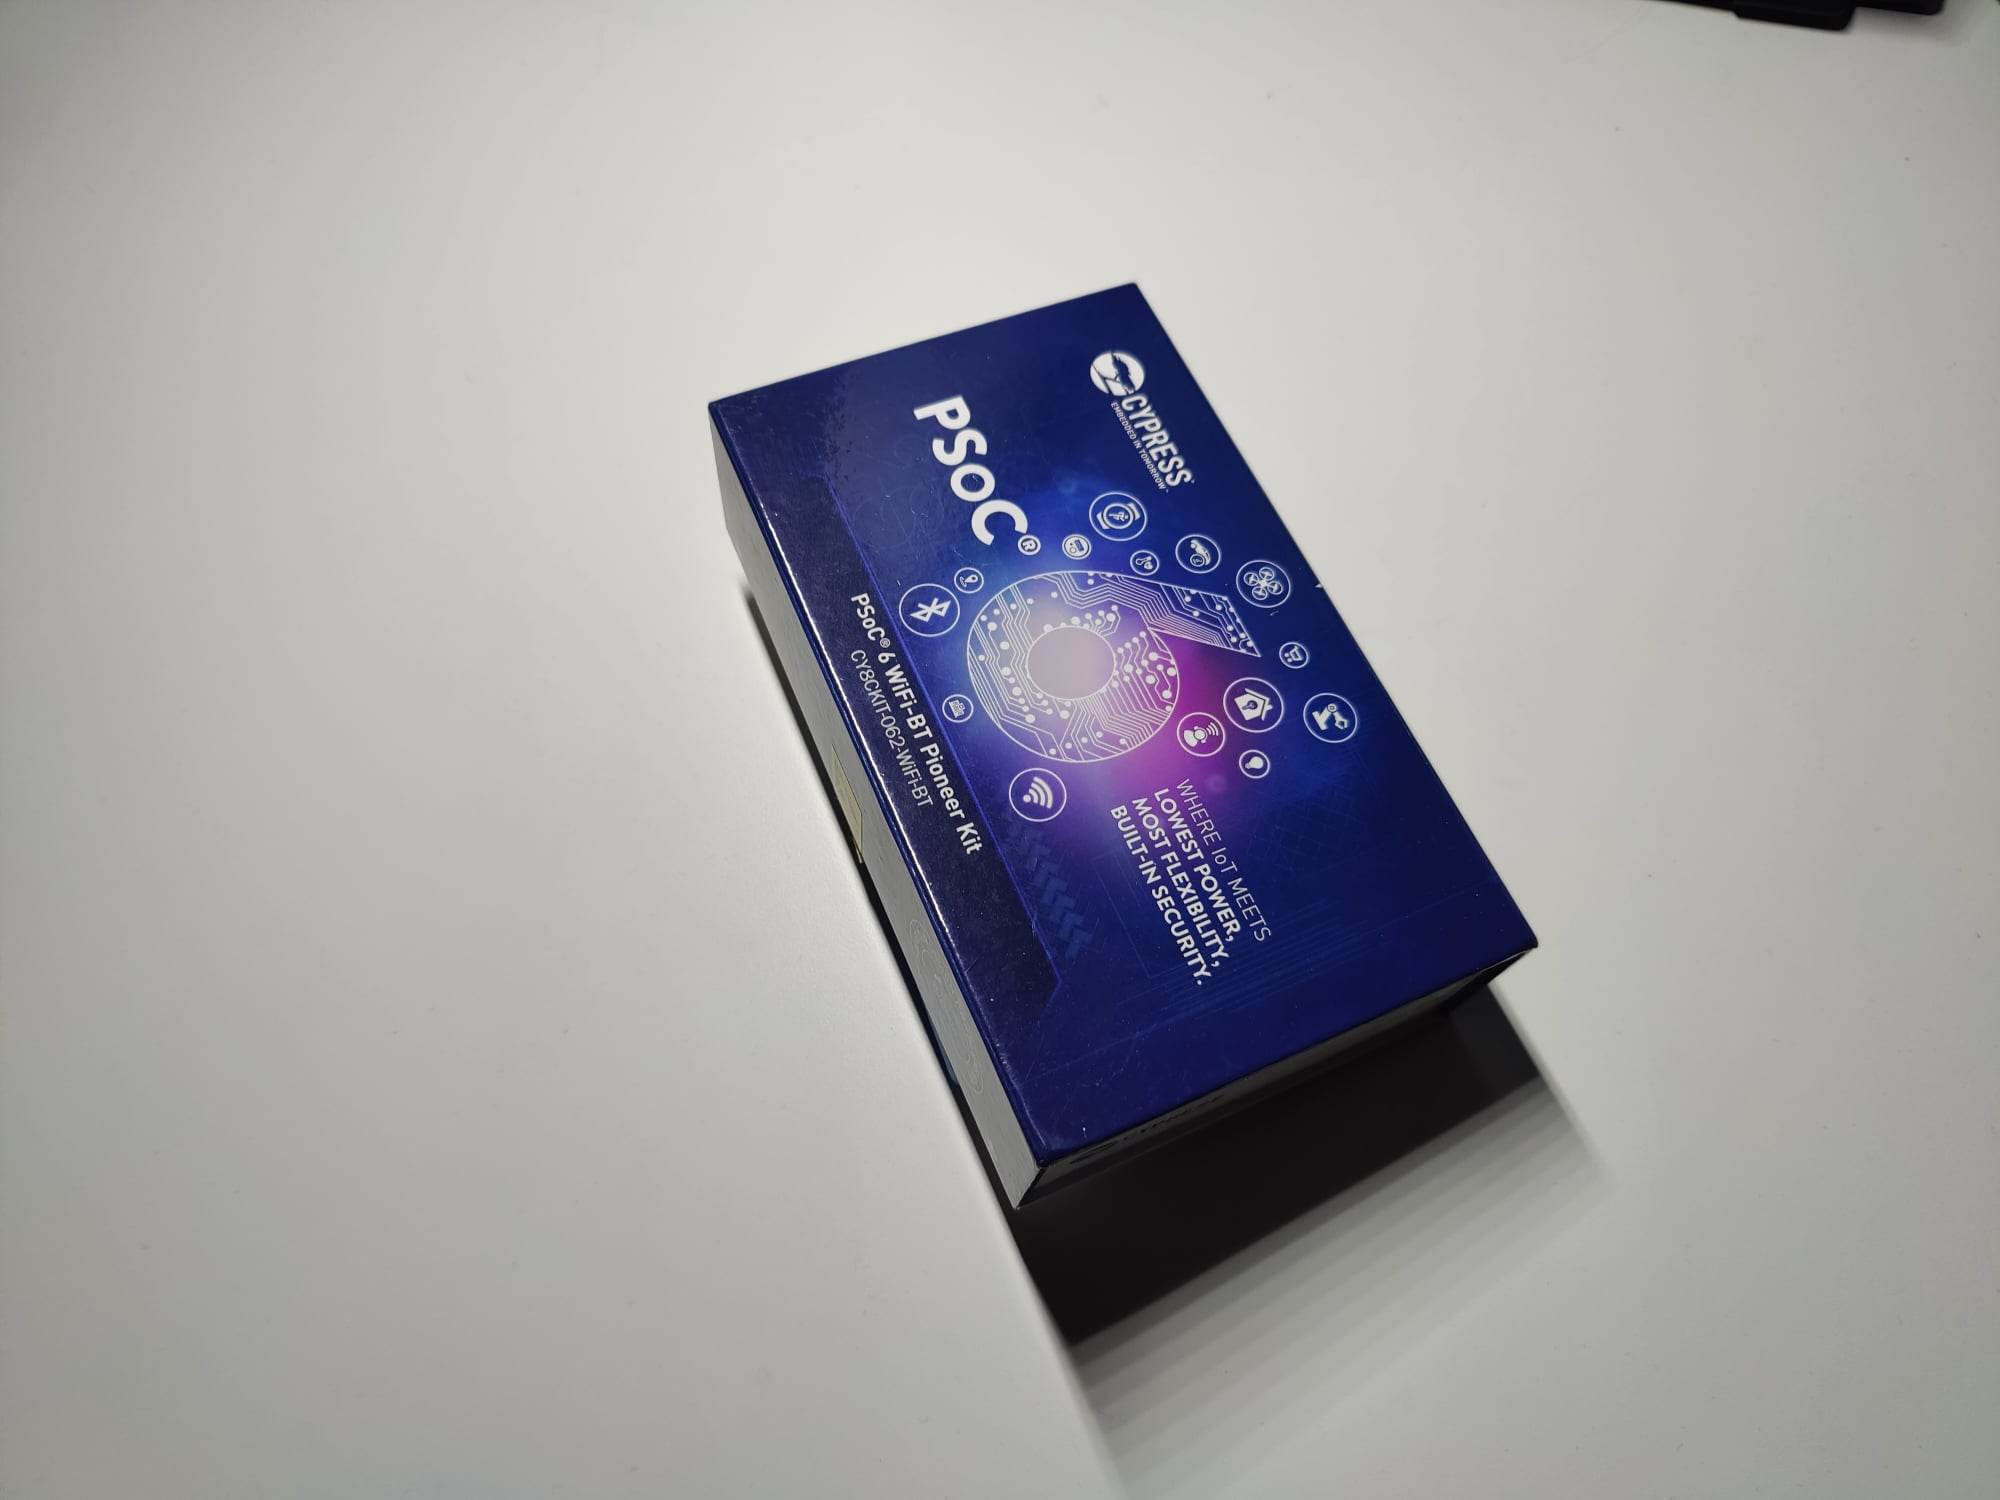PSoC_6: (671, 243, 1595, 1238)
